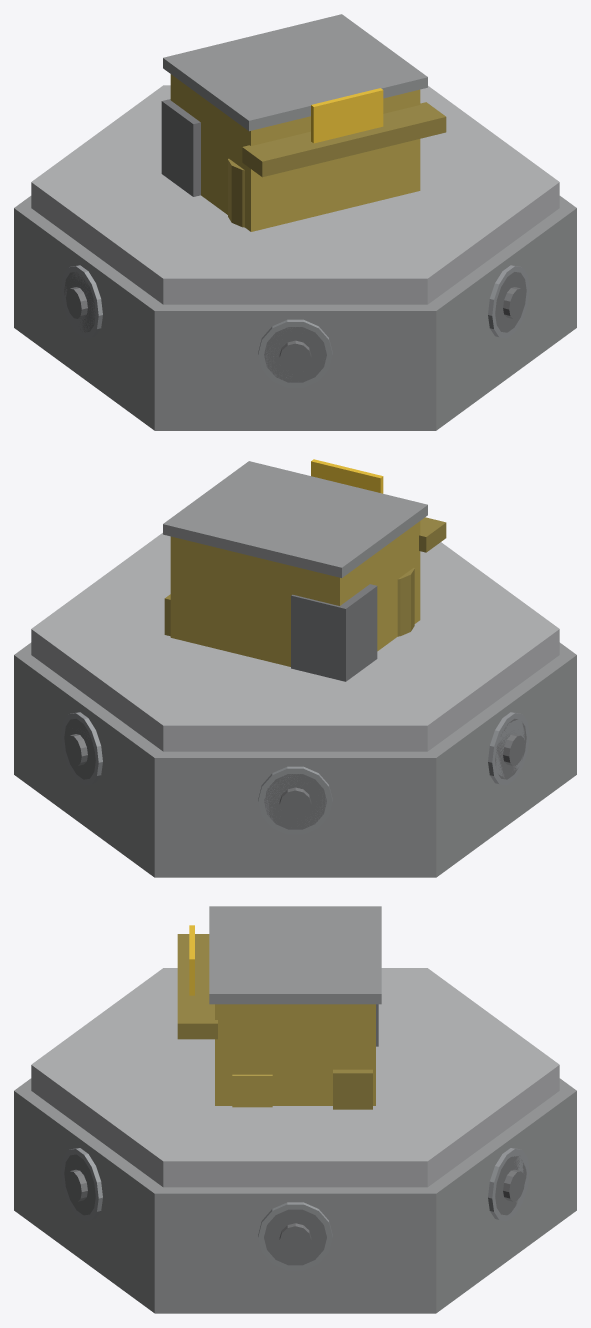
File: black_market_s3_100.glb
The picture shows the model from 3 angles, top to bottom: view 1: azimuth 30°, elevation 25°; view 2: azimuth 150°, elevation 25°; view 3: azimuth 270°, elevation 25°; orthographic projection.
Visible parts, largest first — view 1: BM_Barrel; view 2: BM_Barrel; view 3: BM_Barrel.
Boxes of the visible parts, x1,y1,x2,y2 form: BM_Barrel: (14, 14, 576, 430); BM_Barrel: (14, 459, 576, 877); BM_Barrel: (14, 906, 576, 1313).
Size of the model in its own units: 1.78 by 1.03 by 1.96.
